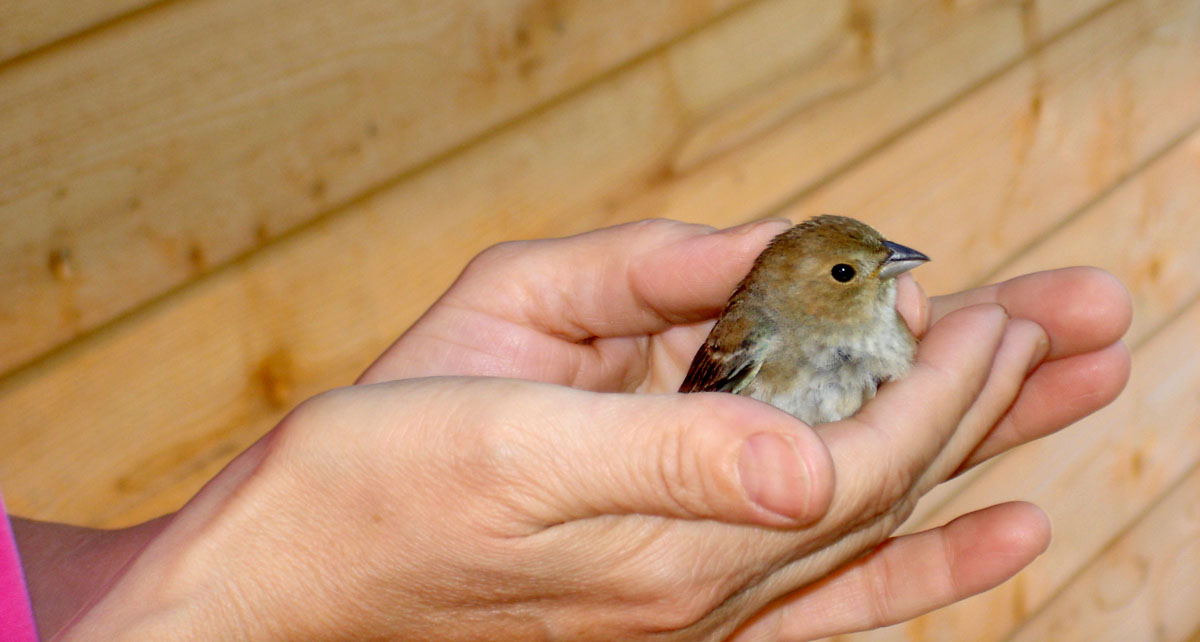bird: (671, 200, 923, 450)
